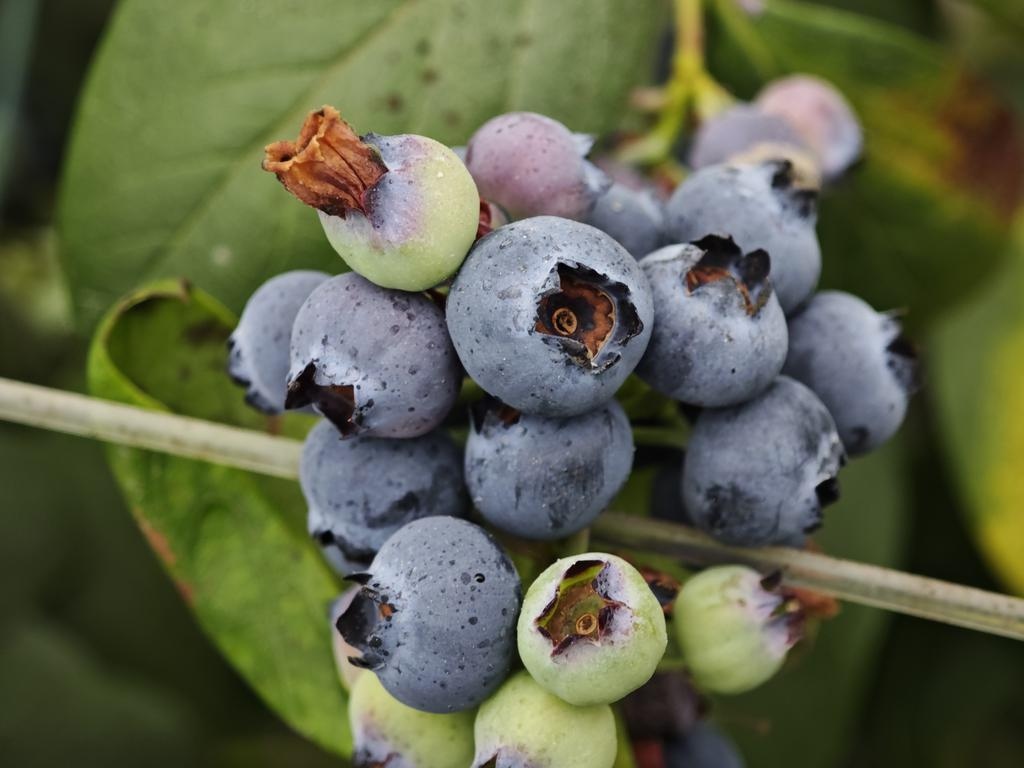RipeBlueBerry: (448, 217, 650, 412), (347, 520, 523, 712), (679, 392, 843, 550), (296, 276, 459, 433), (651, 232, 787, 410), (682, 557, 794, 694)
Semi-RipeBlueBerry: (299, 124, 467, 281)
